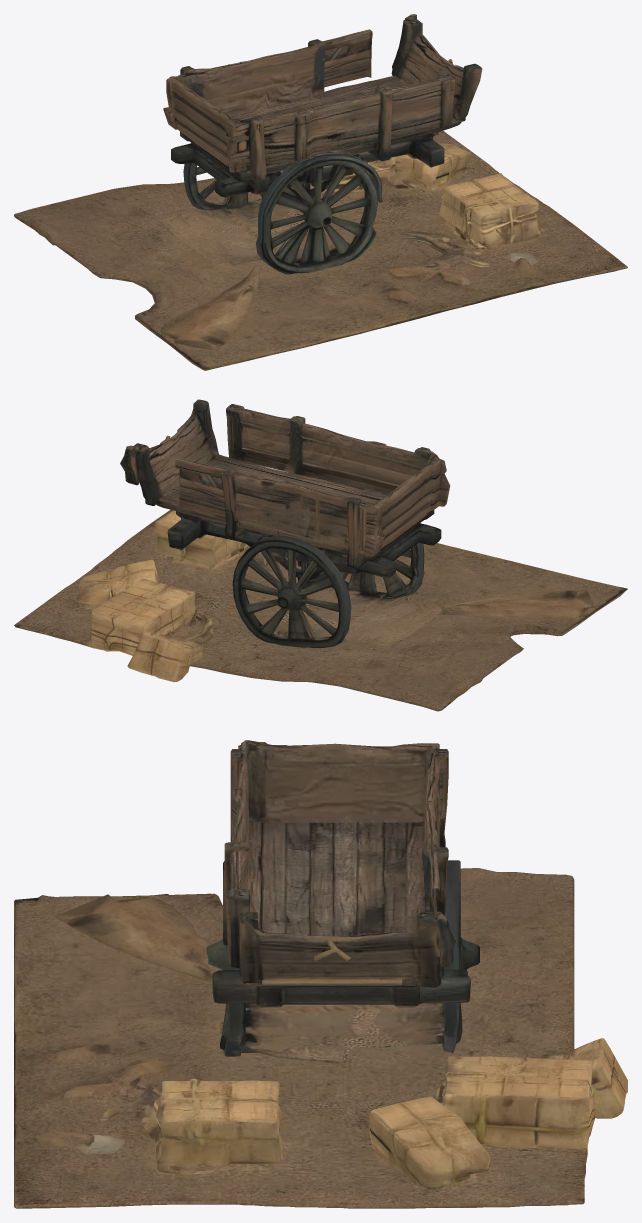
Rendered from broken_caravan_cart.glb.
3 renders of one model, top to bottom at view 1: azimuth 30°, elevation 25°; view 2: azimuth 150°, elevation 25°; view 3: azimuth 270°, elevation 25°, orthographic. The views are drawn at different scales.
Size of the model in its own units: 1.91 by 0.7279 by 1.61.
1 material, 1 textured.
